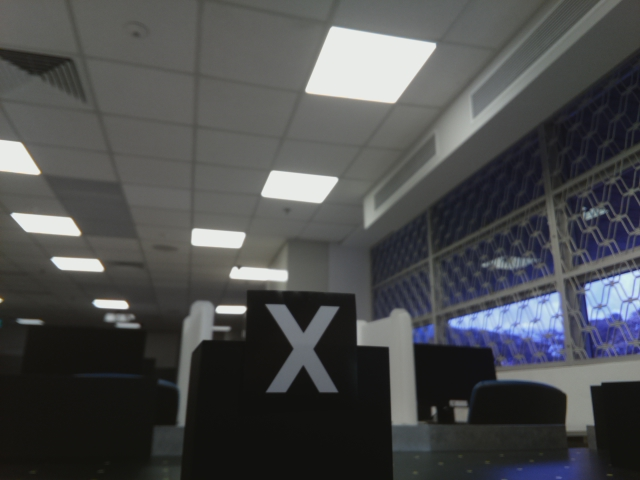x: (253, 300, 347, 401)
